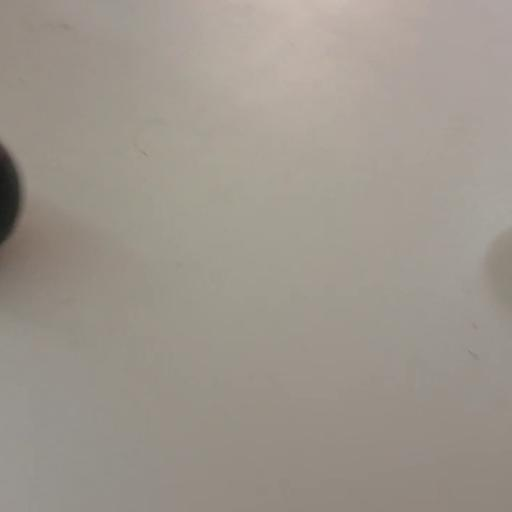dead: (0, 133, 23, 253)
